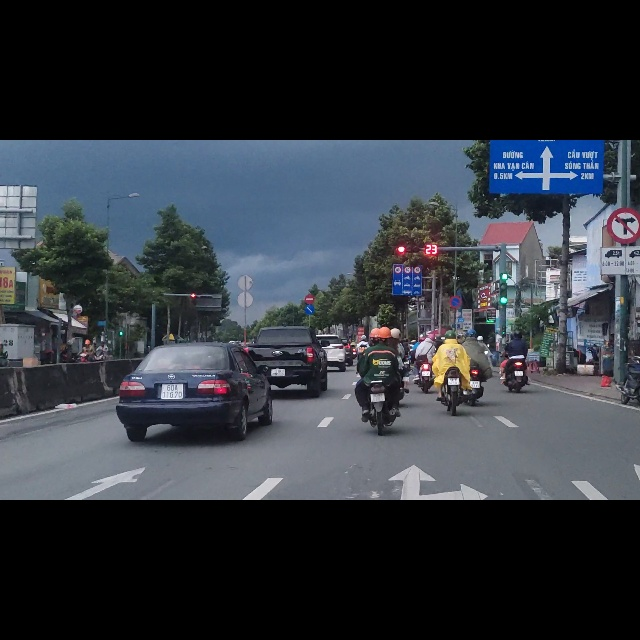bien_hieu_lenh: (607, 119, 640, 184), (393, 238, 422, 276), (448, 276, 463, 300), (304, 291, 315, 308), (305, 274, 315, 290), (394, 223, 402, 236), (404, 224, 411, 237), (414, 225, 421, 237)
